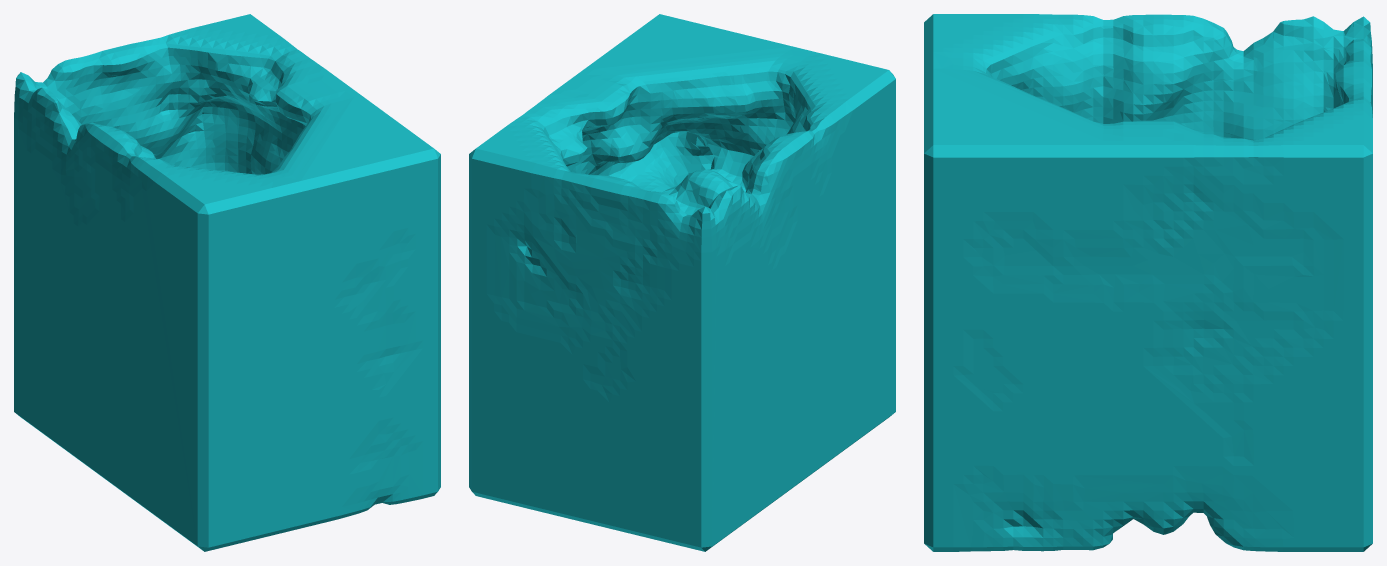
3 views of the same model, side by side, from view 1: azimuth 30°, elevation 25°; view 2: azimuth 150°, elevation 25°; view 3: azimuth 270°, elevation 25° (orthographic). The views are drawn at different scales.
Parts seen in each view (by area): view 1: Liquid_Domain; view 2: Liquid_Domain; view 3: Liquid_Domain.
Part boxes in pixels (x1,y1,x2,y2): Liquid_Domain: [14, 14, 440, 551]; Liquid_Domain: [469, 14, 895, 551]; Liquid_Domain: [924, 14, 1372, 551].
Bounding box in the file's own units: 79.09 × 108 × 108.
